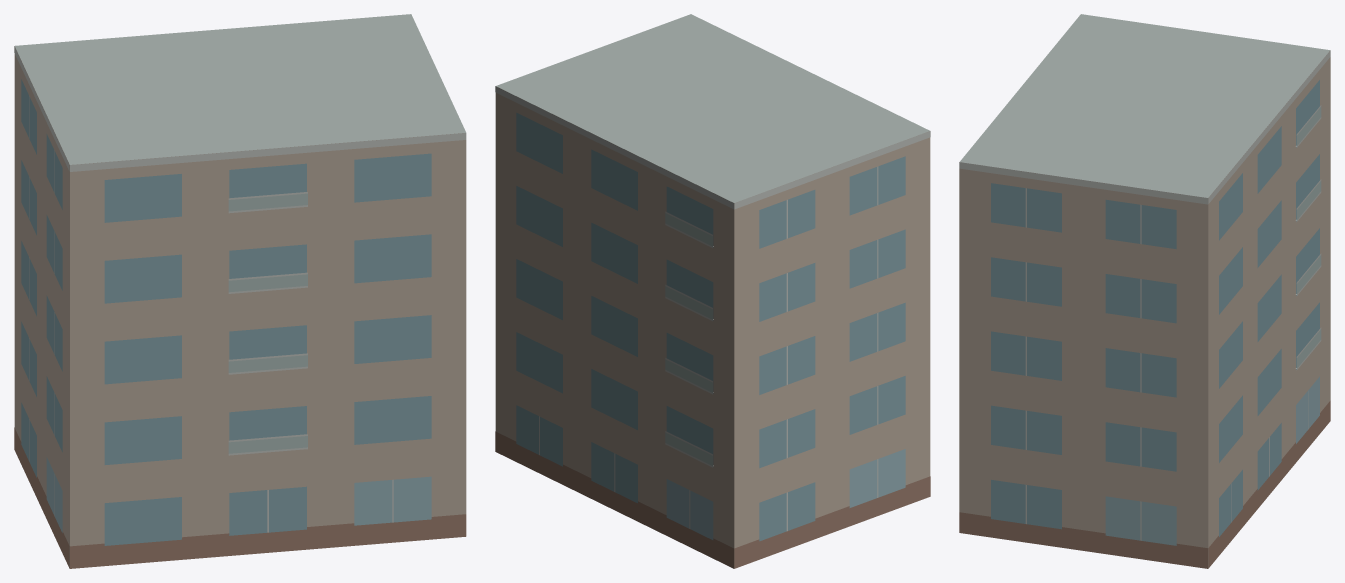
The model's file is survey-upis-32696369.glb.
The picture shows the model from 3 angles, left to right: view 1: azimuth 30°, elevation 25°; view 2: azimuth 150°, elevation 25°; view 3: azimuth 270°, elevation 25°; orthographic projection. The views are drawn at different scales.
Parts seen in each view (by area): view 1: survey-upis-32696369.tmp; view 2: survey-upis-32696369.tmp; view 3: survey-upis-32696369.tmp.
Boxes of the visible parts, x1,y1,x2,y2 form: survey-upis-32696369.tmp: (14,14,466,568); survey-upis-32696369.tmp: (495,14,930,568); survey-upis-32696369.tmp: (959,14,1330,568).
Bounding box in the file's own units: 14.81 × 13.9 × 12.62.
